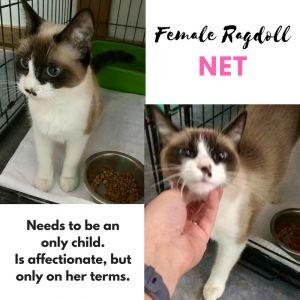ragdoll: (146, 107, 254, 205)
